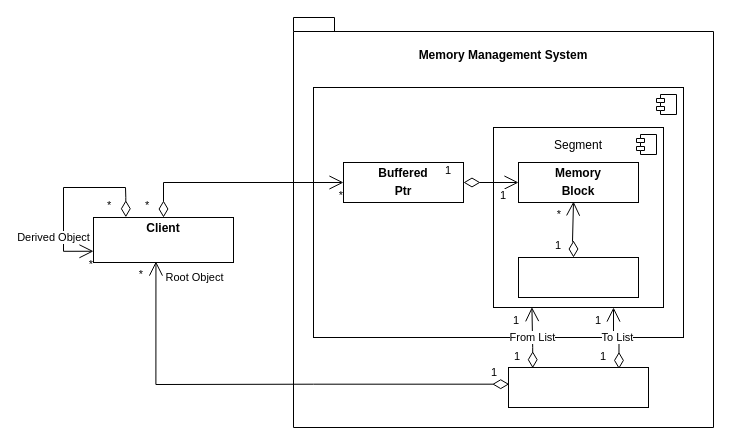
This 732x445 diagram has some shape labels left out. Here are the shapes that lost their labels. From the top down, the box of each, then its label:
(312, 86, 684, 338): Heap
(518, 256, 638, 298): Free Block List
(508, 366, 648, 408): Garbage Collector
